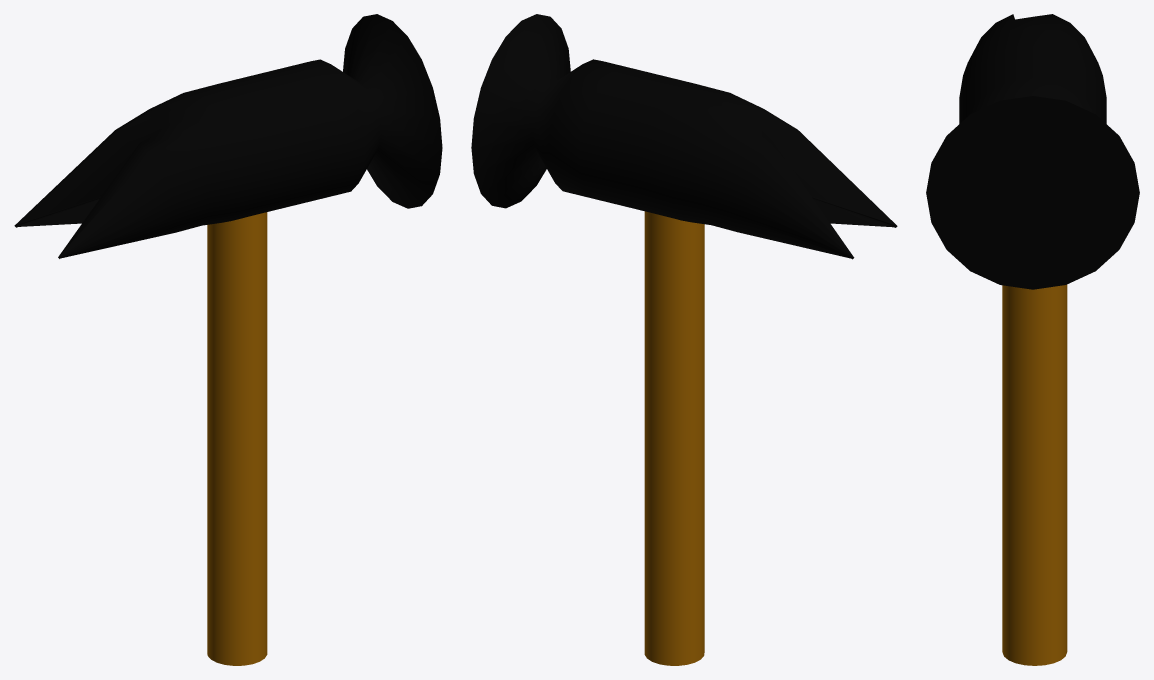
Rendered from Hammer.fbx.
The picture shows the model from 3 angles, left to right: view 1: azimuth 30°, elevation 25°; view 2: azimuth 150°, elevation 25°; view 3: azimuth 270°, elevation 25°; orthographic projection. The views are drawn at different scales.
Visible parts, largest first — view 1: Hammer; view 2: Hammer; view 3: Hammer.
Part boxes in pixels (<box>): Hammer: <box>14,14,442,665</box>; Hammer: <box>471,14,897,665</box>; Hammer: <box>926,14,1139,665</box>.
Bounding box in the file's own units: 3.27 × 5.22 × 1.59.
